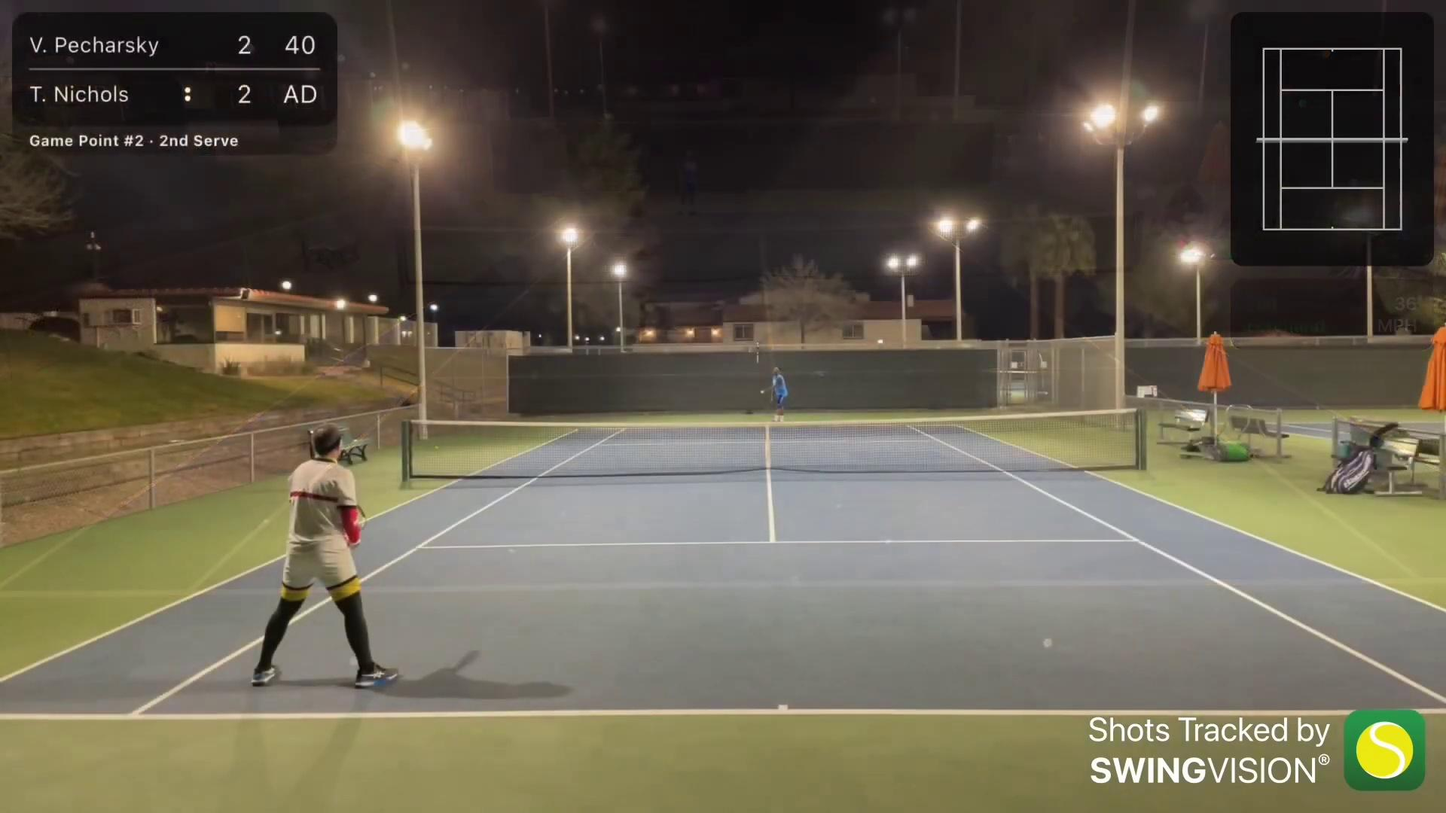ball: (759, 387, 766, 395)
